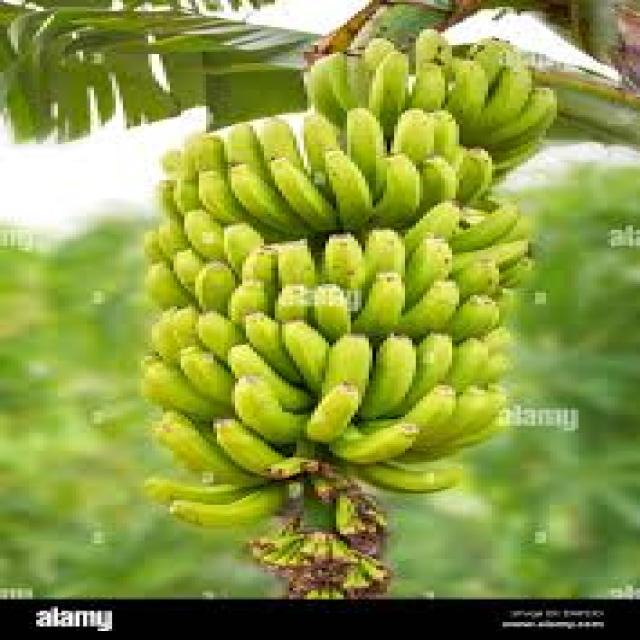banana: (144, 113, 516, 526), (304, 42, 584, 148)
